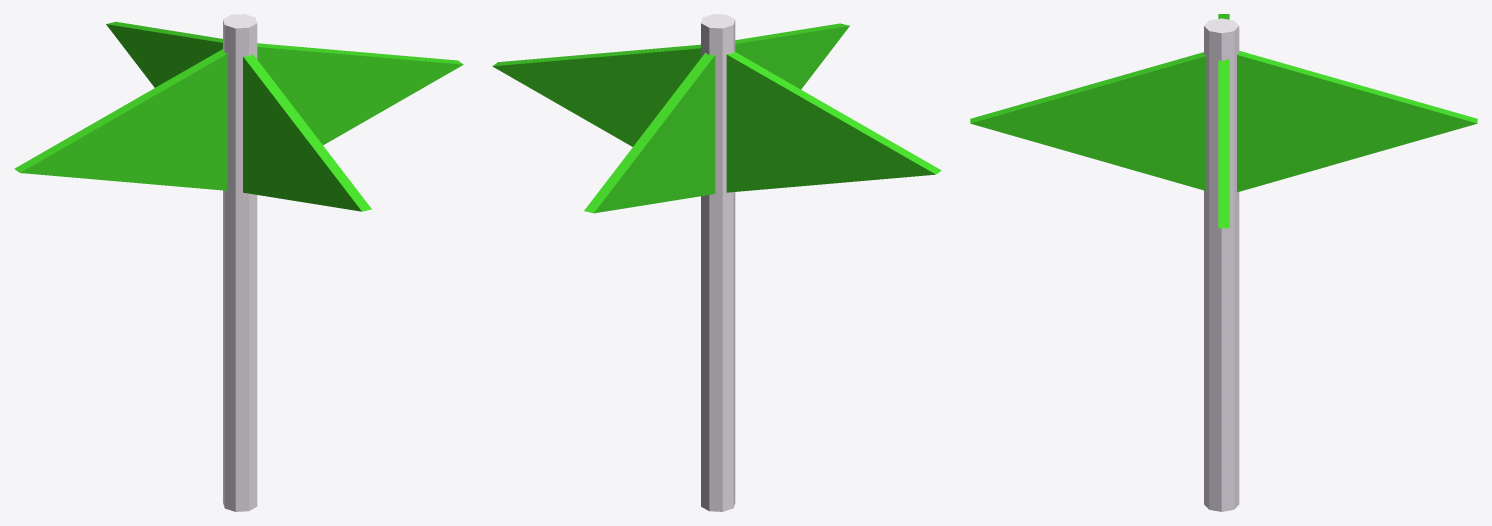
File: Flag.fbx
The picture shows the model from 3 angles, left to right: view 1: azimuth 30°, elevation 25°; view 2: azimuth 150°, elevation 25°; view 3: azimuth 270°, elevation 25°; orthographic projection.
Parts seen in each view (by area): view 1: Flag.003, Aste, Flag.002, Flag.001, Flag; view 2: Flag.003, Aste, Flag.002, Flag, Flag.001; view 3: Flag, Flag.001, Aste, Flag.002.
Part boxes in pixels (box(x1,y1,x2,y2)): Flag.003: box(14, 49, 227, 190); Aste: box(223, 14, 257, 511); Flag.002: box(257, 43, 463, 145); Flag.001: box(243, 54, 371, 211); Flag: box(106, 21, 222, 87); Flag.003: box(726, 51, 941, 192); Aste: box(701, 14, 735, 511); Flag.002: box(492, 44, 700, 146); Flag: box(584, 52, 715, 213); Flag.001: box(735, 23, 849, 89); Flag: box(1237, 51, 1477, 192); Flag.001: box(970, 52, 1206, 190); Aste: box(1204, 18, 1239, 511); Flag.002: box(1218, 59, 1229, 228).
Size of the model in its own units: 288 by 300 by 288.
